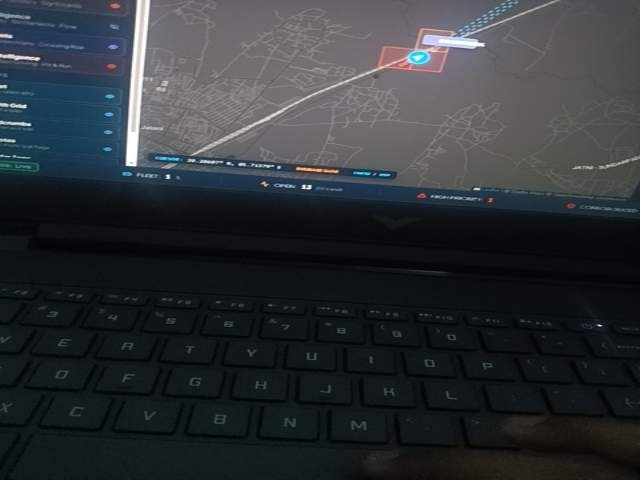pothole: (105, 403, 313, 480)
